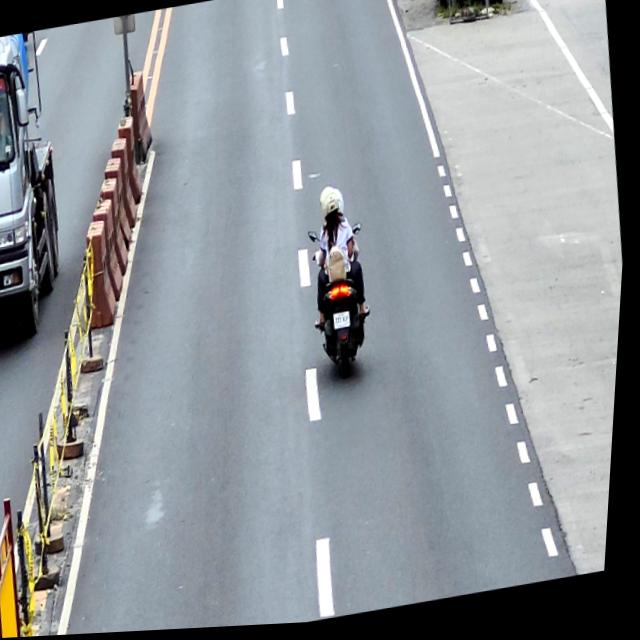License-Plate: (336, 314, 355, 333)
Motorcycle: (303, 224, 383, 387)
Truck: (0, 28, 82, 342)
